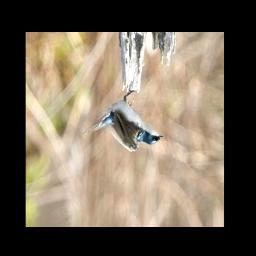Swallow: (82, 89, 164, 154)
